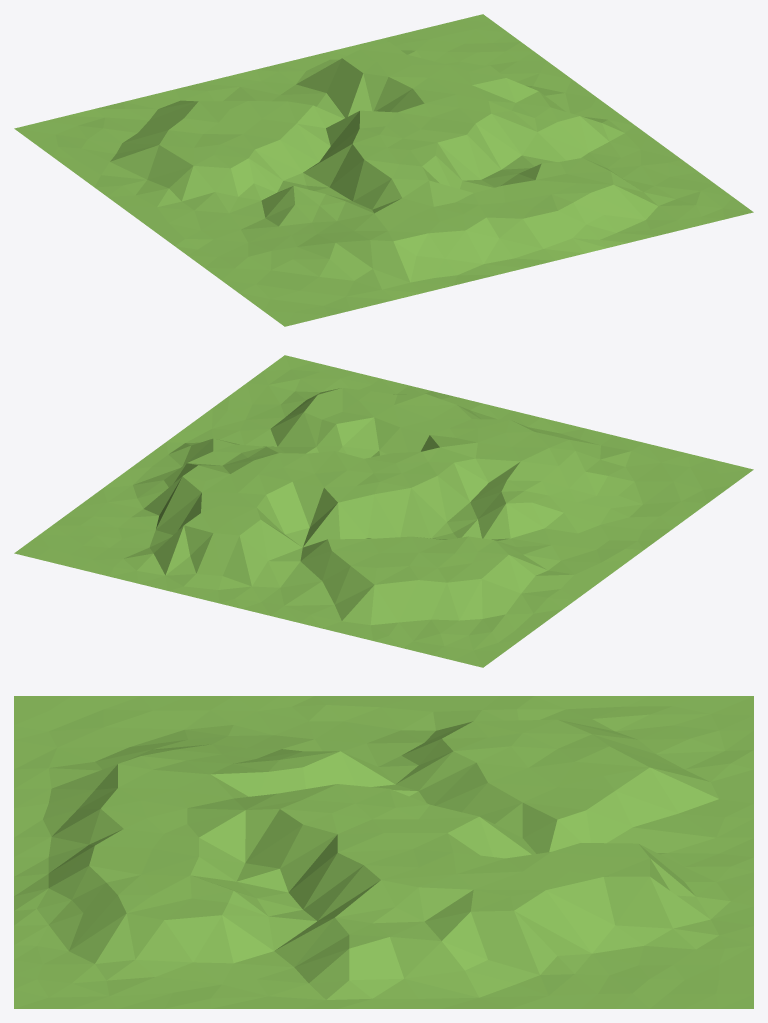
The model's file is MT_Terrain_M_d_07.fbx.
3 views of the same model, one above another, from view 1: azimuth 30°, elevation 25°; view 2: azimuth 150°, elevation 25°; view 3: azimuth 270°, elevation 25° (orthographic). The views are drawn at different scales.
Parts seen in each view (by area): view 1: MT_Terrain_M_d_07; view 2: MT_Terrain_M_d_07; view 3: MT_Terrain_M_d_07.
Boxes of the visible parts, <box> form: MT_Terrain_M_d_07: <box>14,14,753,326</box>; MT_Terrain_M_d_07: <box>14,355,753,667</box>; MT_Terrain_M_d_07: <box>14,696,753,1008</box>.
Bounding box in the file's own units: 5000 × 343 × 5000.
